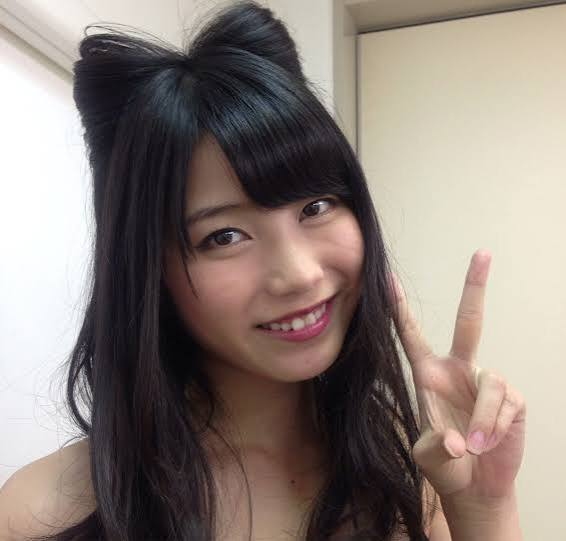peace_sign: (375, 244, 532, 491)
